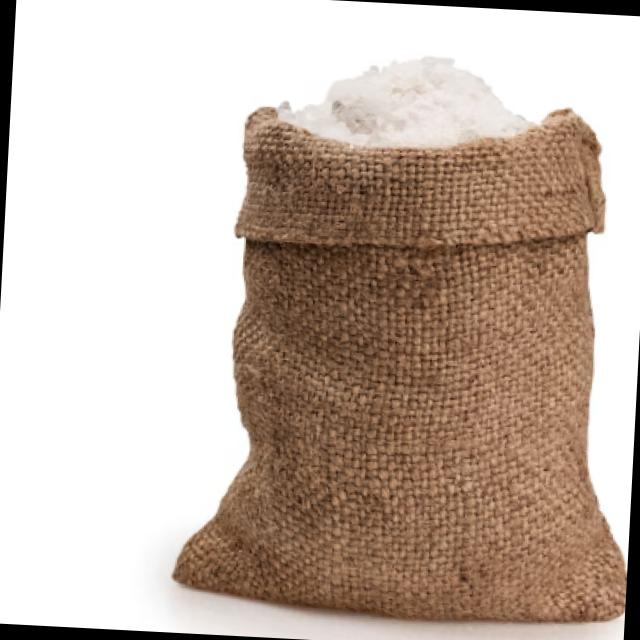KantongSemen: (169, 43, 640, 631)
